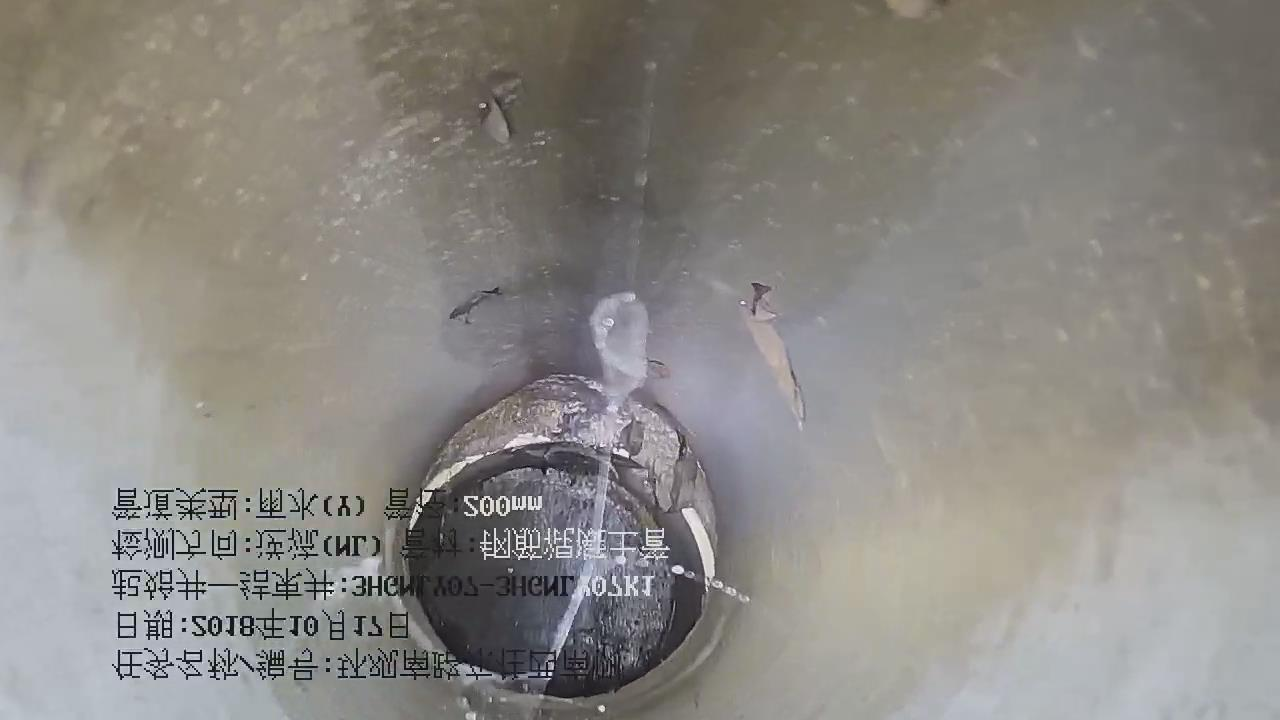CKTJ: (421, 374, 717, 577)
PL: (740, 283, 805, 430)
